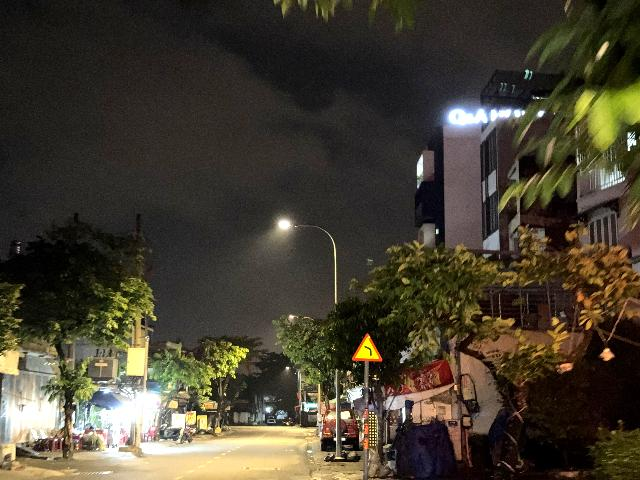cho-ngoat-nguy-hiem-ben-trai: (351, 333, 383, 362)
